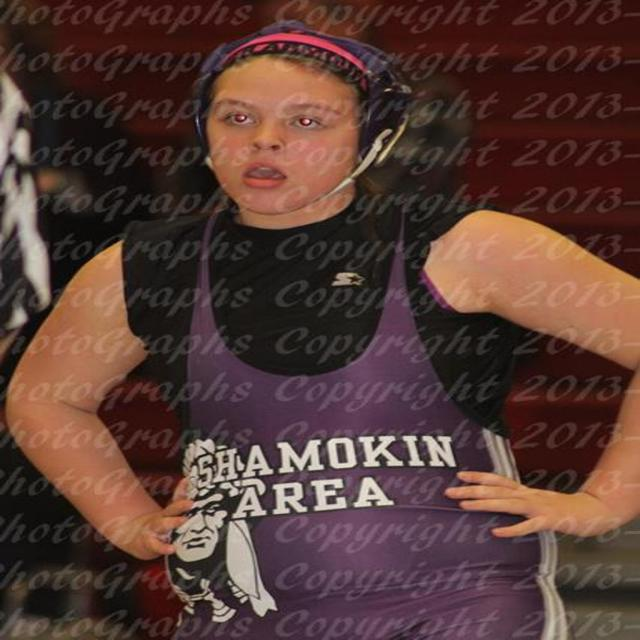nomask: (205, 68, 358, 211)
